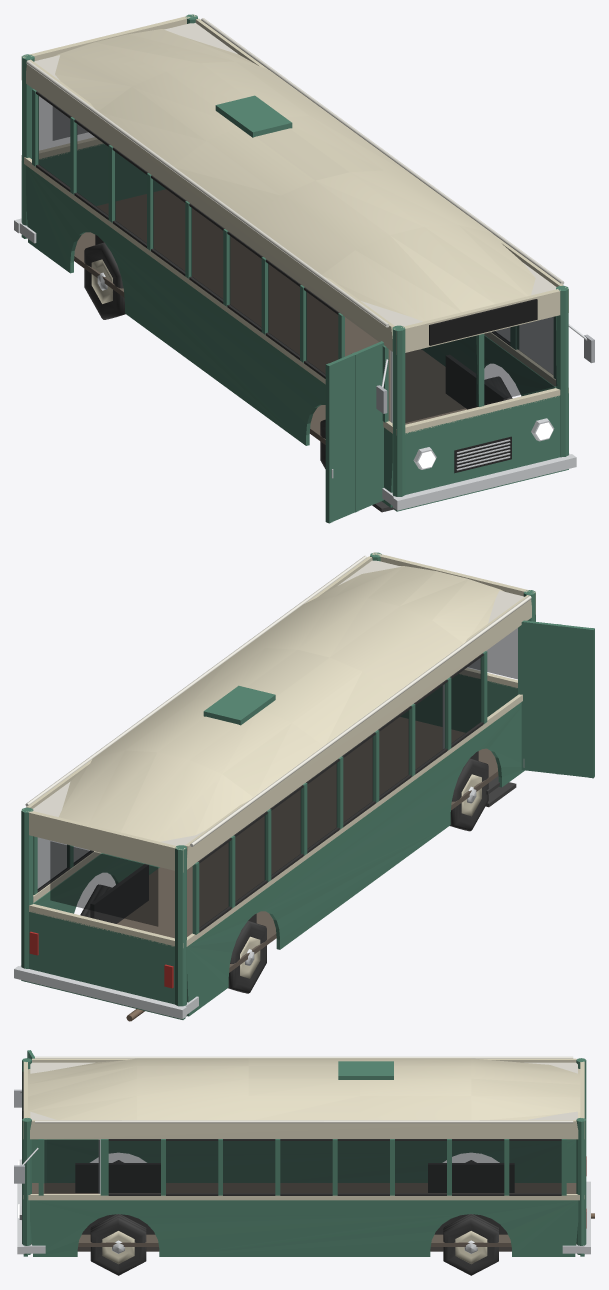
The model's file is festival_bus_restored_open_lod2.glb.
3 renders of one model, top to bottom at view 1: azimuth 30°, elevation 25°; view 2: azimuth 150°, elevation 25°; view 3: azimuth 270°, elevation 25°, orthographic. The views are drawn at different scales.
Visible parts, largest first — view 1: body, door, destination_board, wheel_rr; view 2: body, door, wheel_fr, wheel_rr; view 3: body, wheel_fl, wheel_rl.
Part boxes in pixels (box(x1,y1,x2,y2)): body: box(14, 14, 594, 512); door: box(325, 341, 383, 523); destination_board: box(429, 299, 537, 345); wheel_rr: box(84, 242, 125, 319); body: box(14, 552, 535, 1021); door: box(518, 620, 594, 778); wheel_fr: box(450, 758, 488, 831); wheel_rr: box(228, 921, 266, 993); body: box(14, 1056, 594, 1256); wheel_fl: box(90, 1214, 146, 1275); wheel_rl: box(443, 1214, 498, 1275).
Size of what is drawn, in the model's own units: 3.6 by 3.18 by 9.39.
